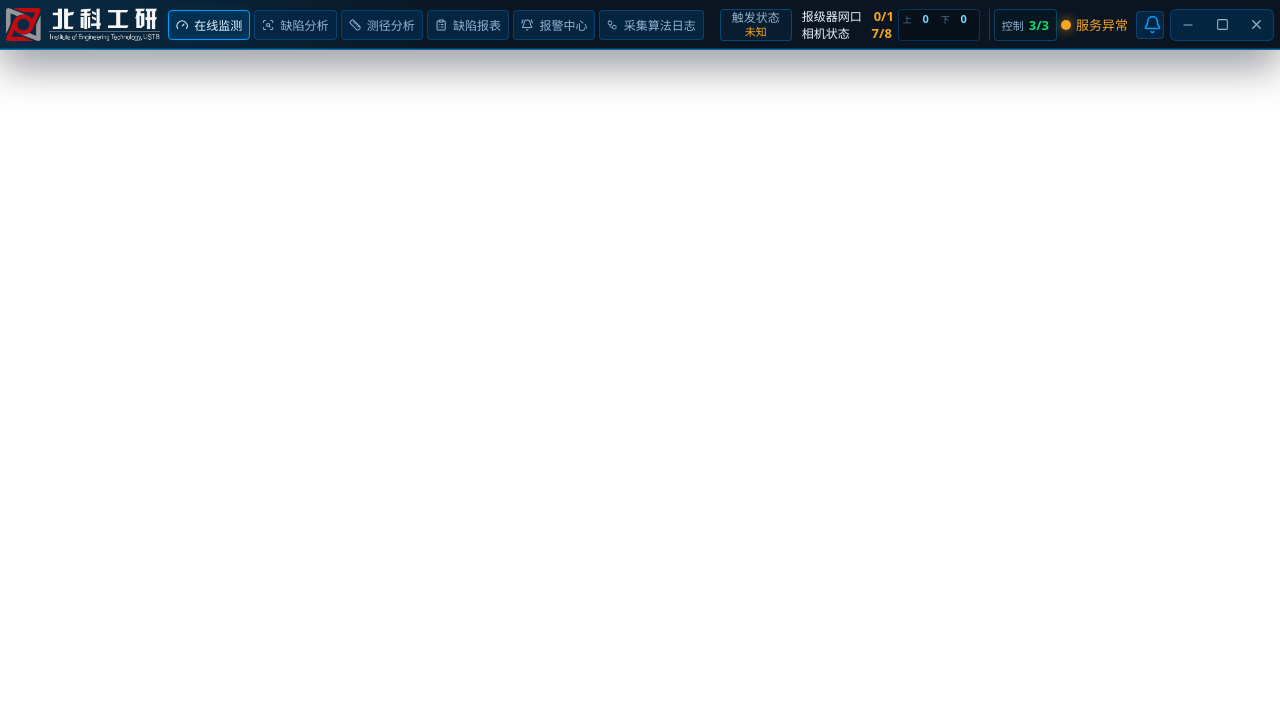
it: BrandHeader › shows receiver port monitor placeholder and switches detail panels when realtime network data is pending
Press the mouse on the button with test id "receiver-status-button": (844, 16) [796,8,893,24]
Click the button with test id "receiver-status-button": (844, 16) [796,8,893,24]
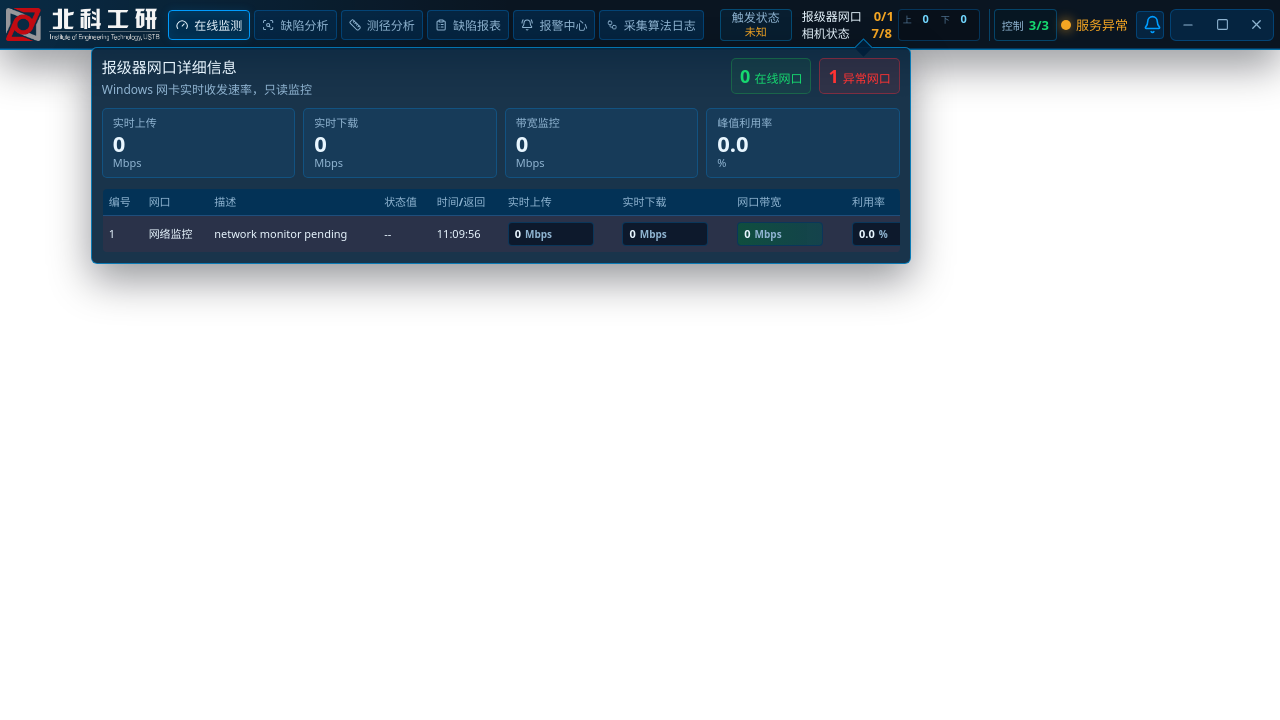
Expected: the dialog with id "receiver-detail-panel" is shown, [91,47,911,264]
Expected: the text "network monitor pending" is shown, [208,215,378,252]
Click the button with test id "camera-status-button": (844, 34) [796,26,893,41]
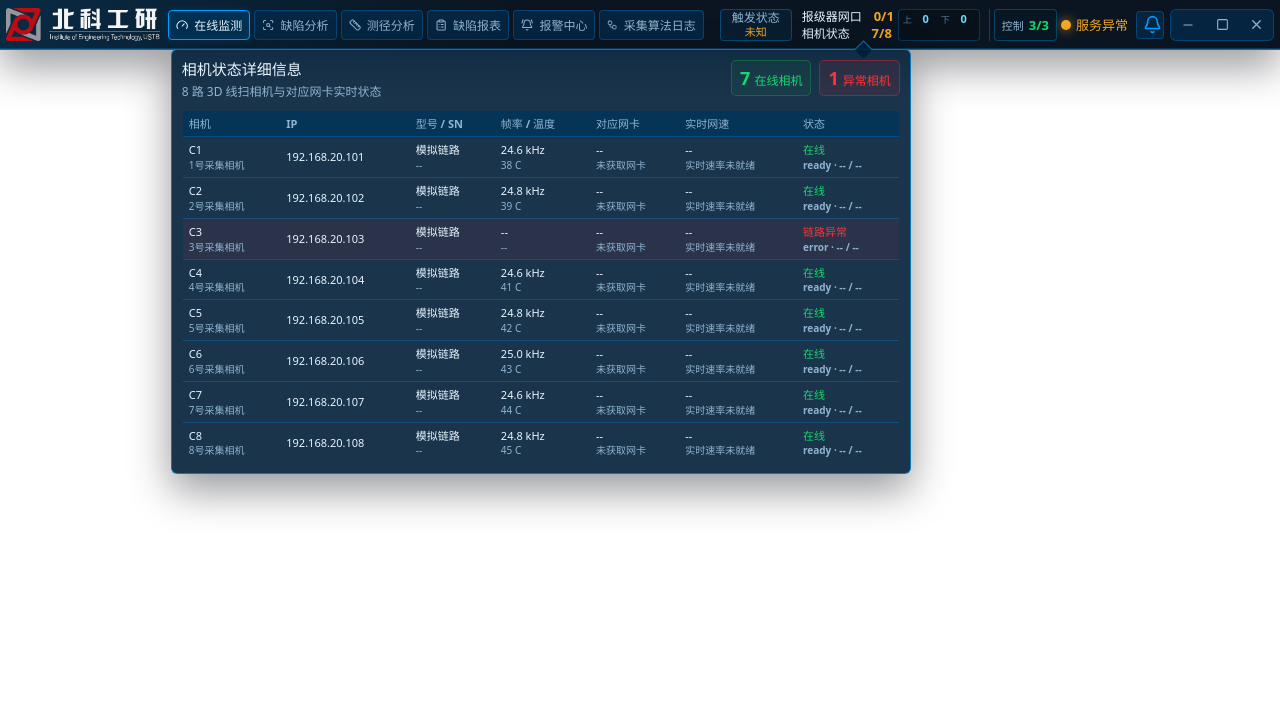
Expected: the dialog with id "receiver-detail-panel" is gone
Expected: the dialog with id "camera-detail-panel" is shown, [171,48,911,474]
